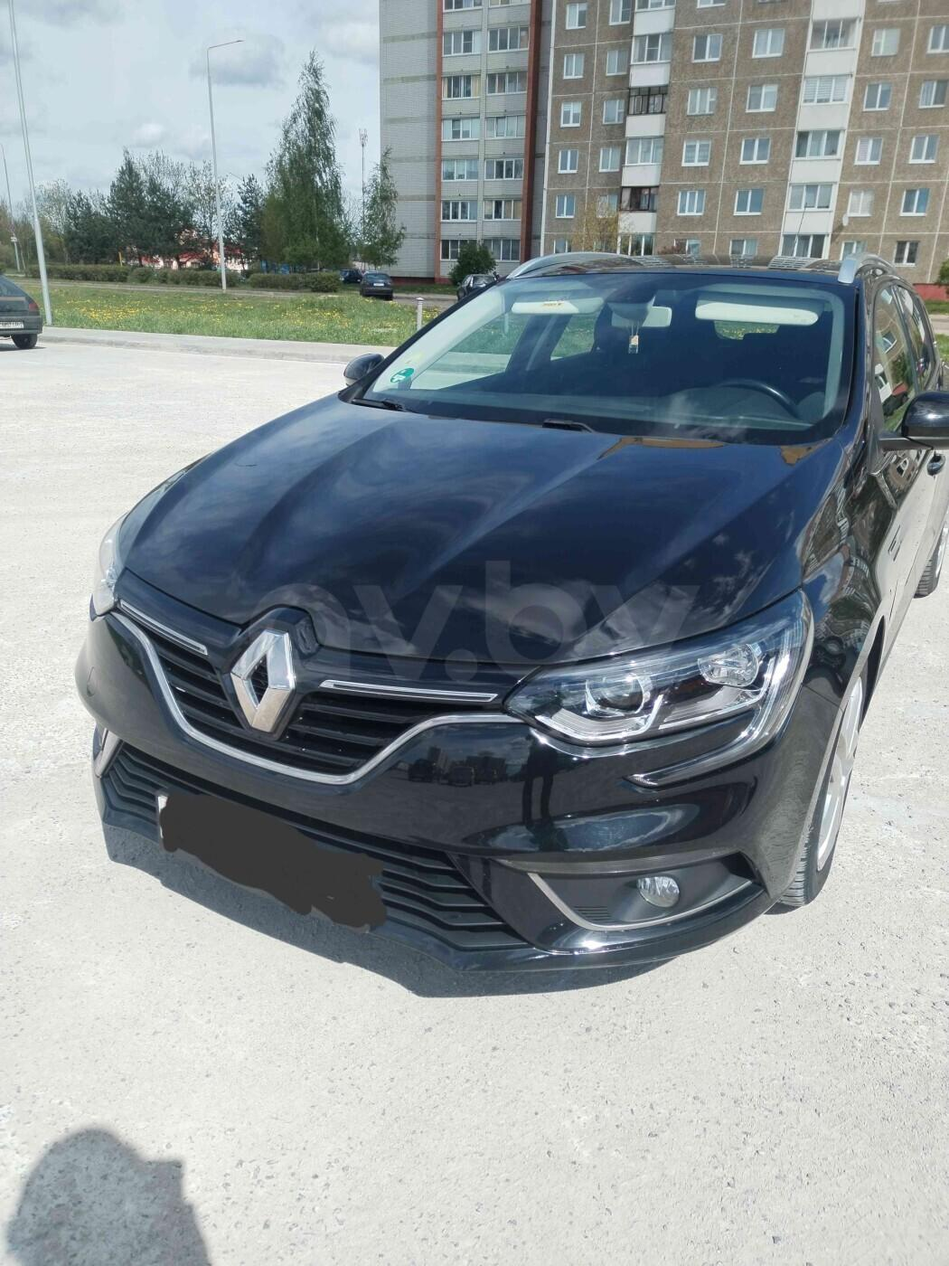Megane_2016-2020: (58, 251, 949, 959)
